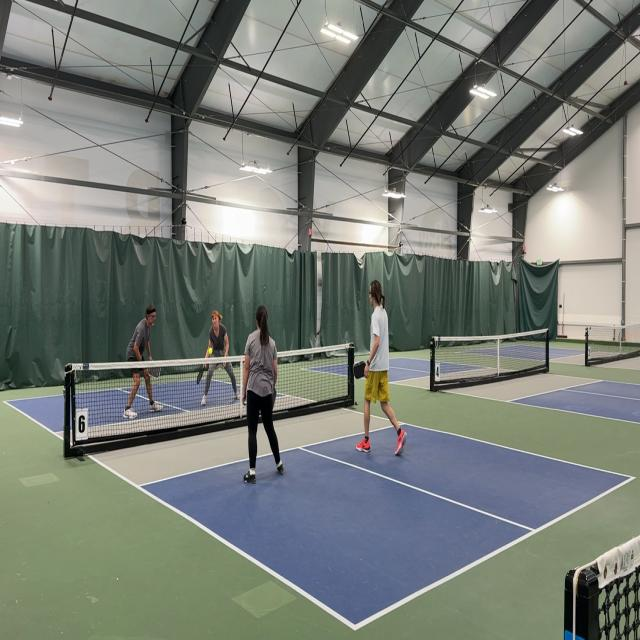ball: (208, 346, 214, 356)
